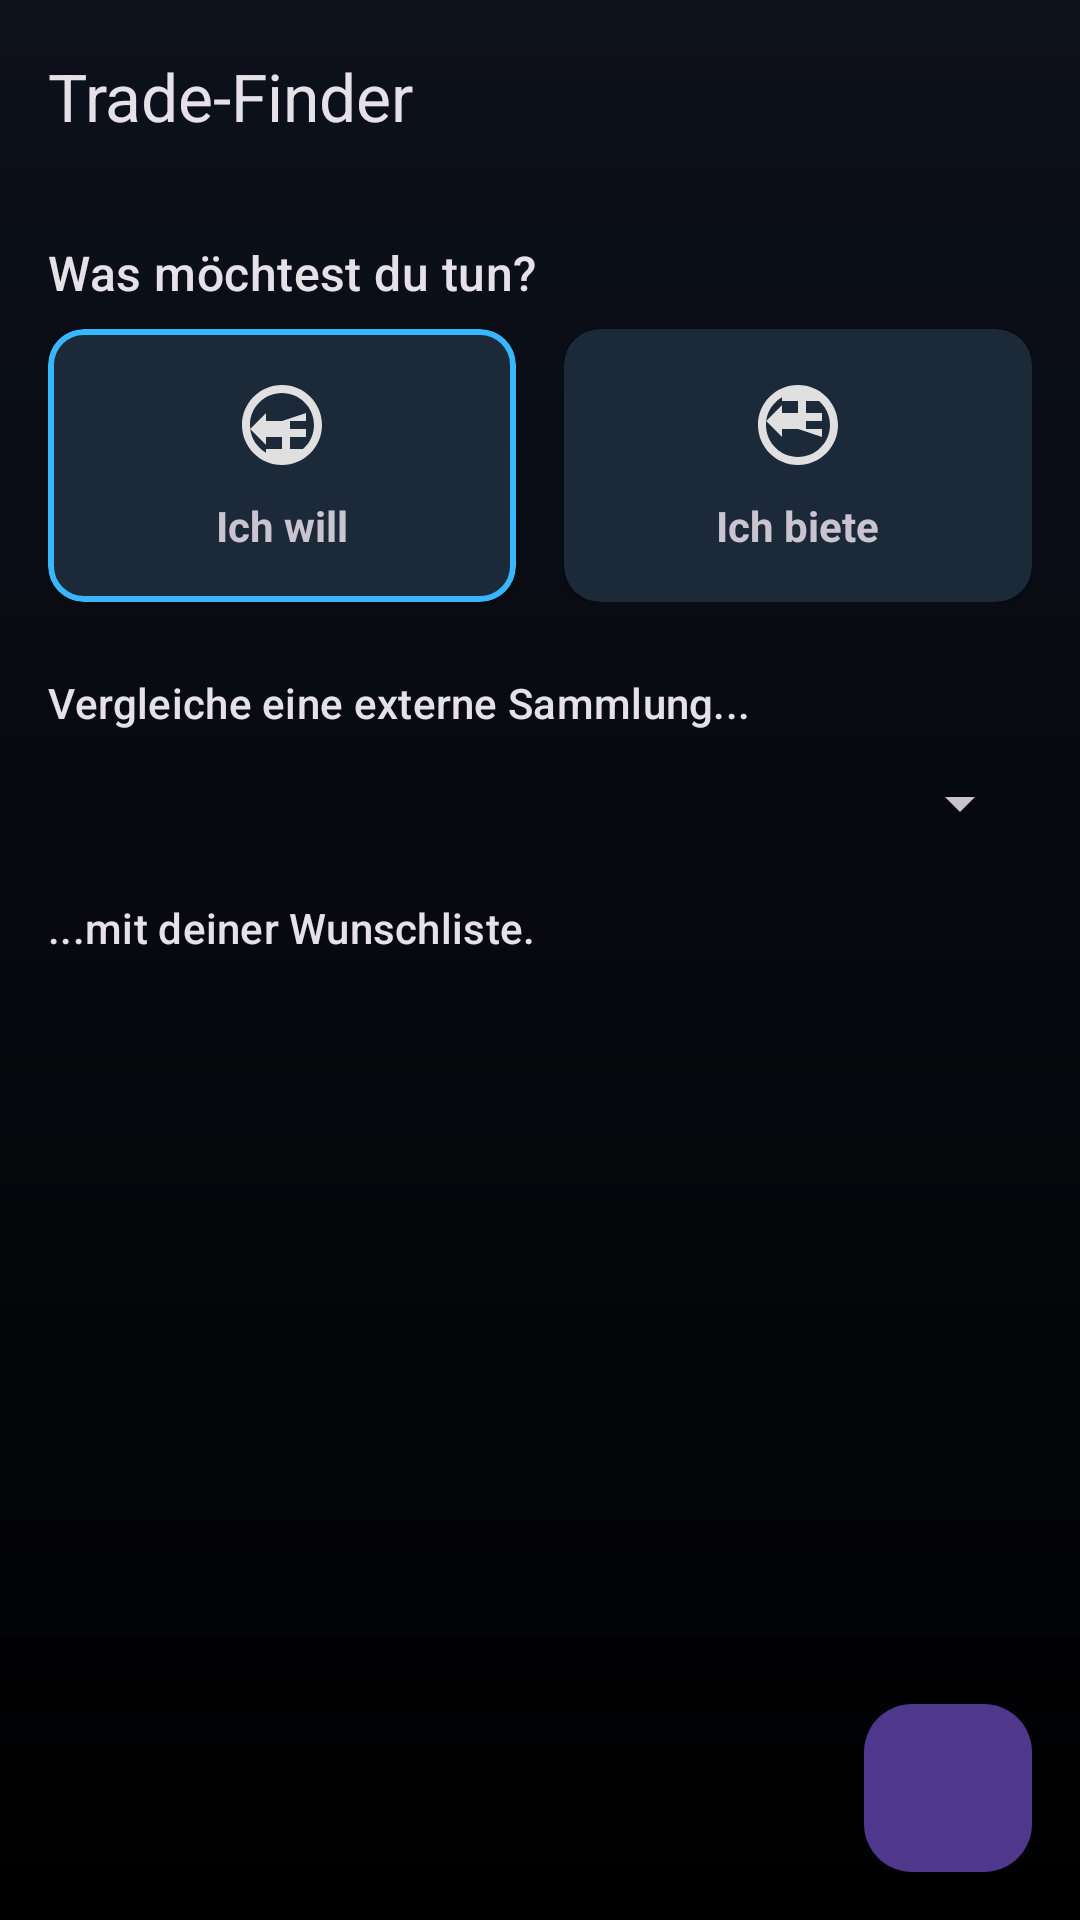

Icon bounding boxes for this 1080px x 1920px phone screenshot, format detection(x1, y1, x2, y2):
trade receive: detection(242, 385, 322, 465)
trade send: detection(758, 385, 838, 465)
